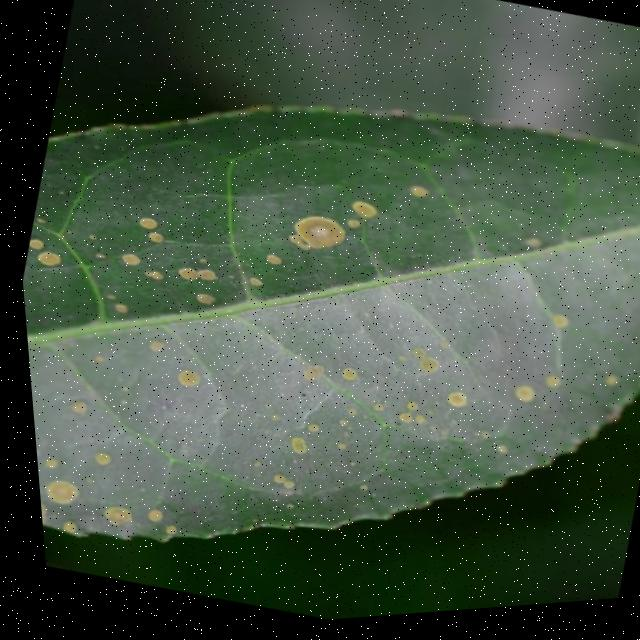Tea algae leaf spot: (2, 1, 640, 640)
